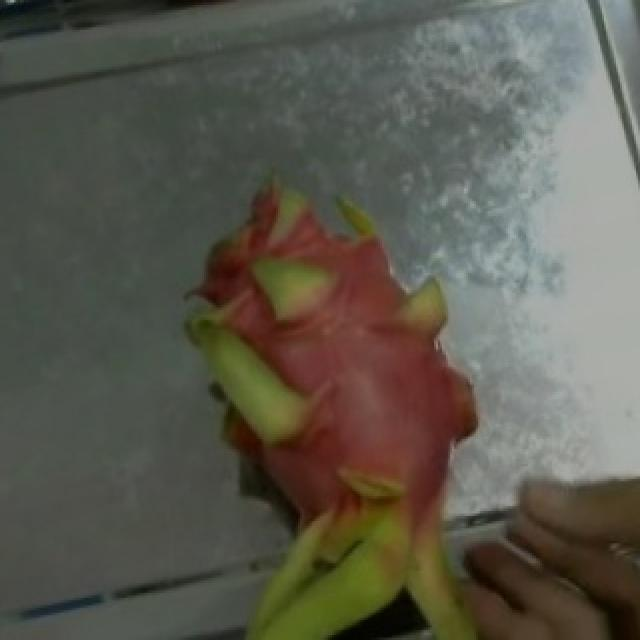fruit: (108, 161, 538, 638)
